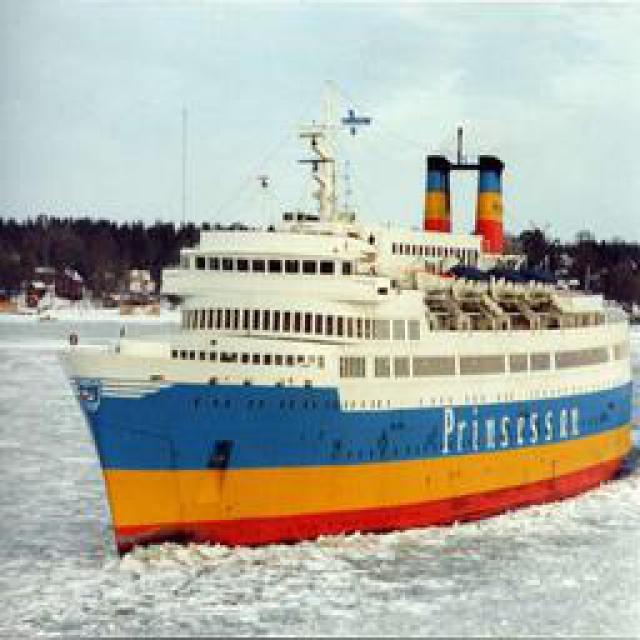Ship: (74, 88, 627, 573)
